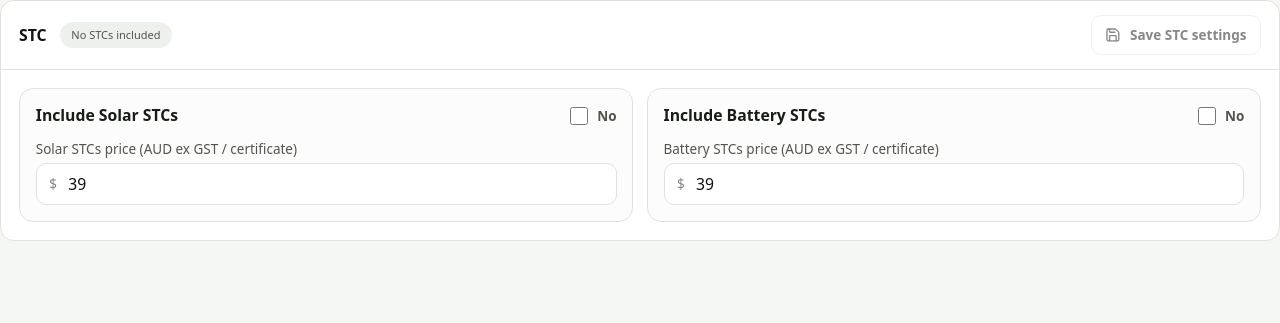
Test case: CiRebateProfilePanel › saves both switches and prices through the compact backend contract
This screenshot has width=1280, height=323.
Expected: the heading "STC" is shown, [19,24,46,46]
Click the checkbox labelled "Include Solar STCs": (579, 116) [570,106,588,124]
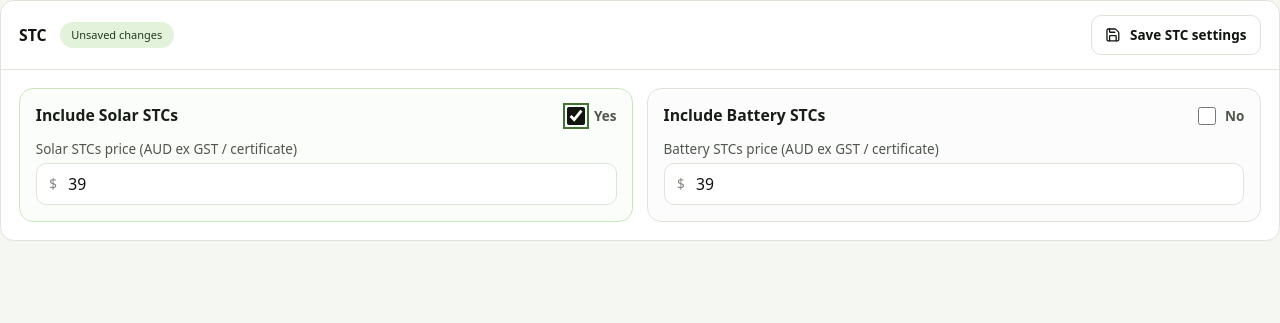
Replace the text in the number field labelled "Solar STCs price" with "41.5": (326, 184) [36,163,617,205]
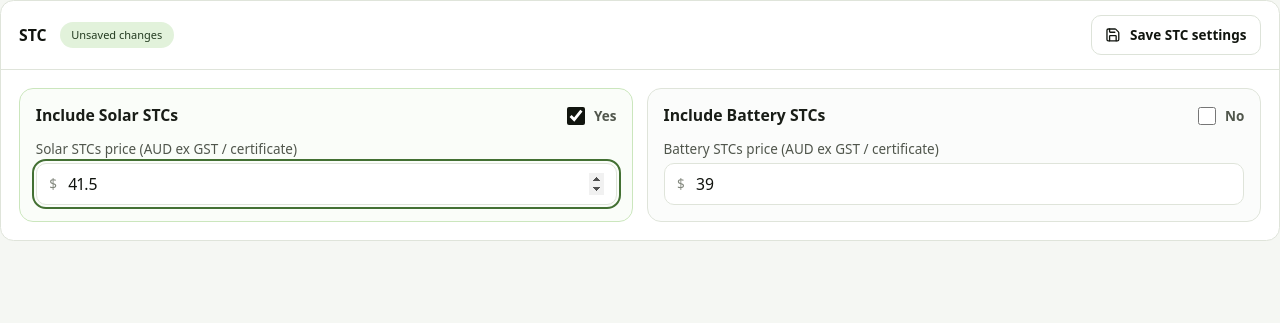
Click the checkbox labelled "Include Battery STCs": (1207, 116) [1198,106,1216,124]
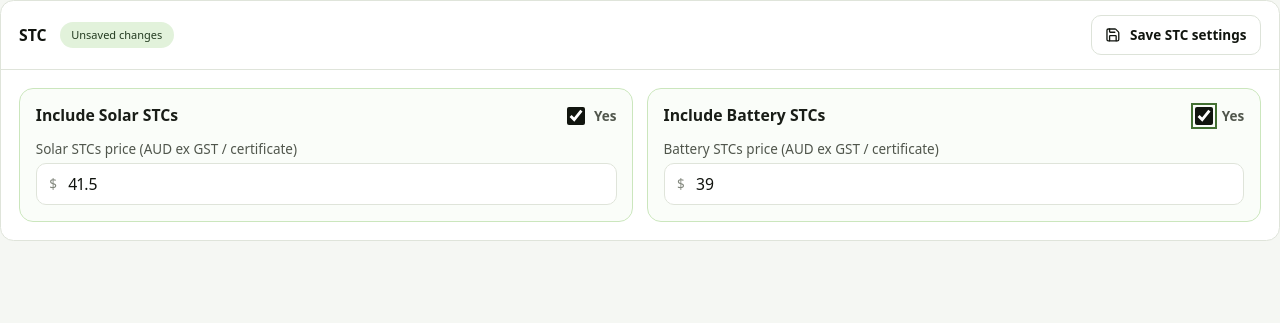
Replace the text in the number field labelled "Battery STCs price" with "38": (954, 184) [664,163,1244,205]
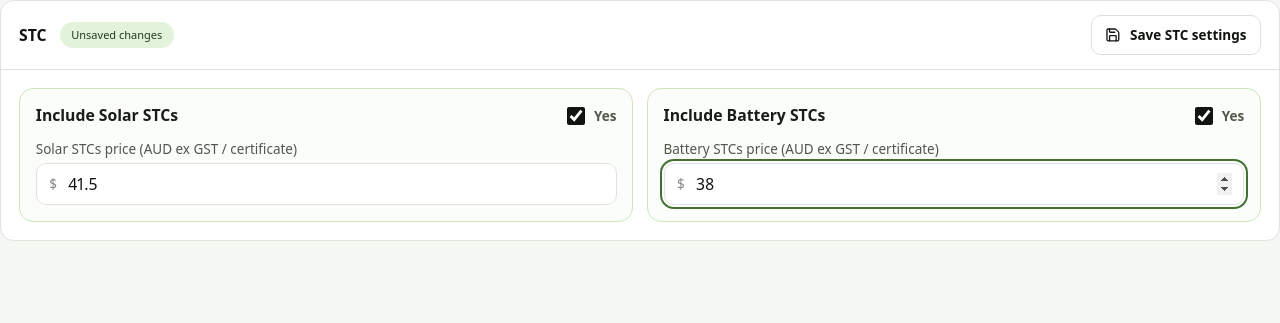
Click the button "Save STC settings": (1176, 35) [1091,14,1261,55]
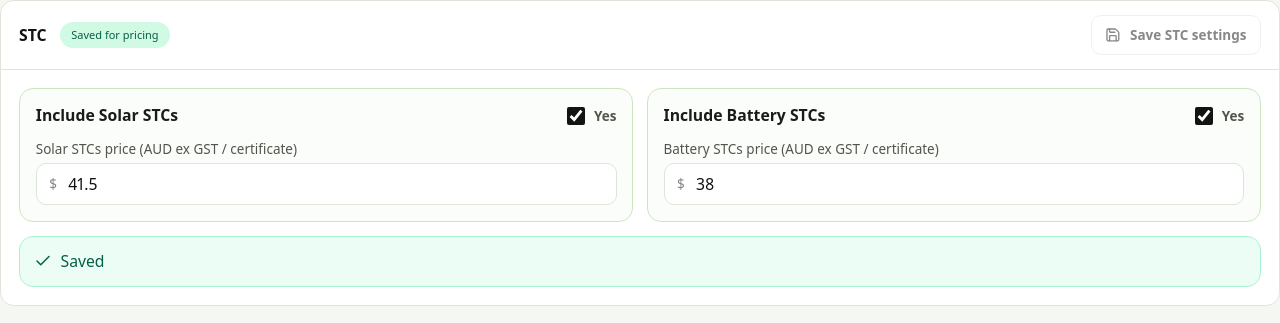
Expected: the text "Saved" is shown, [19,236,1261,287]
